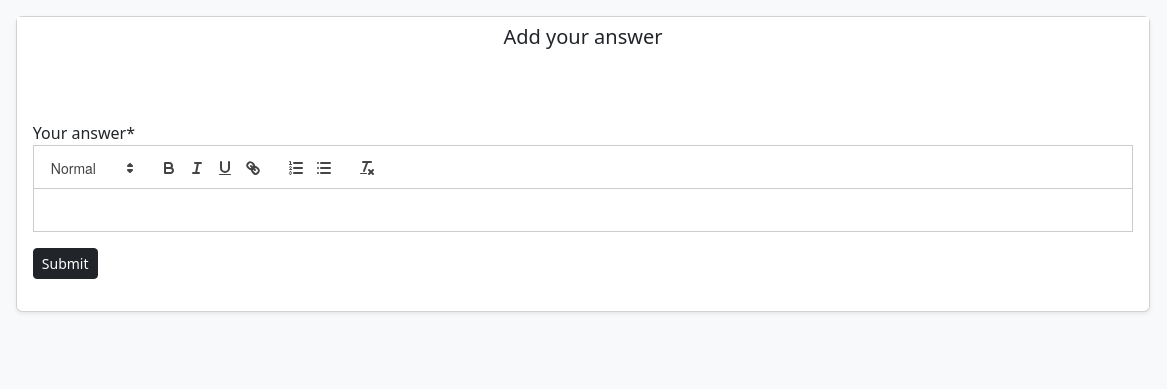
AddAnswer component › should show frontend validation error when submitting empty form
Click the button "Submit" at (65, 264), box x1=33 y1=248 x2=98 y2=279
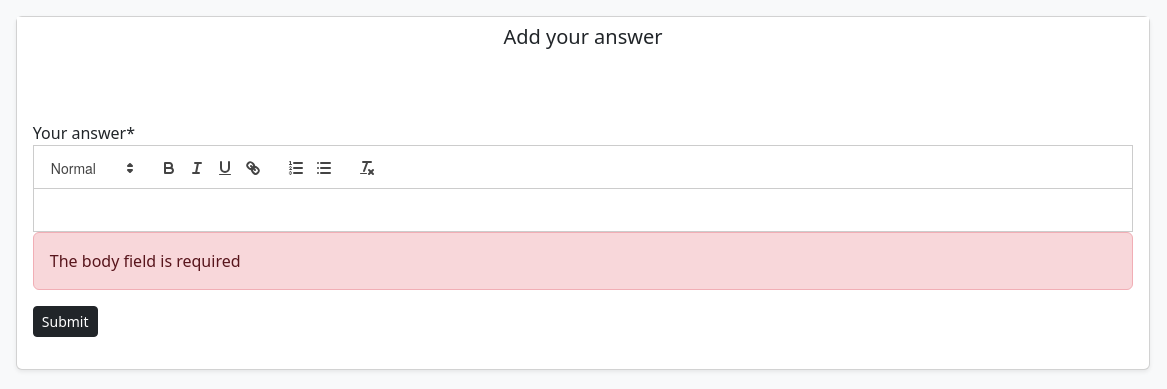
Result: the text "The body field is required" is shown at x1=33 y1=232 x2=1133 y2=290
